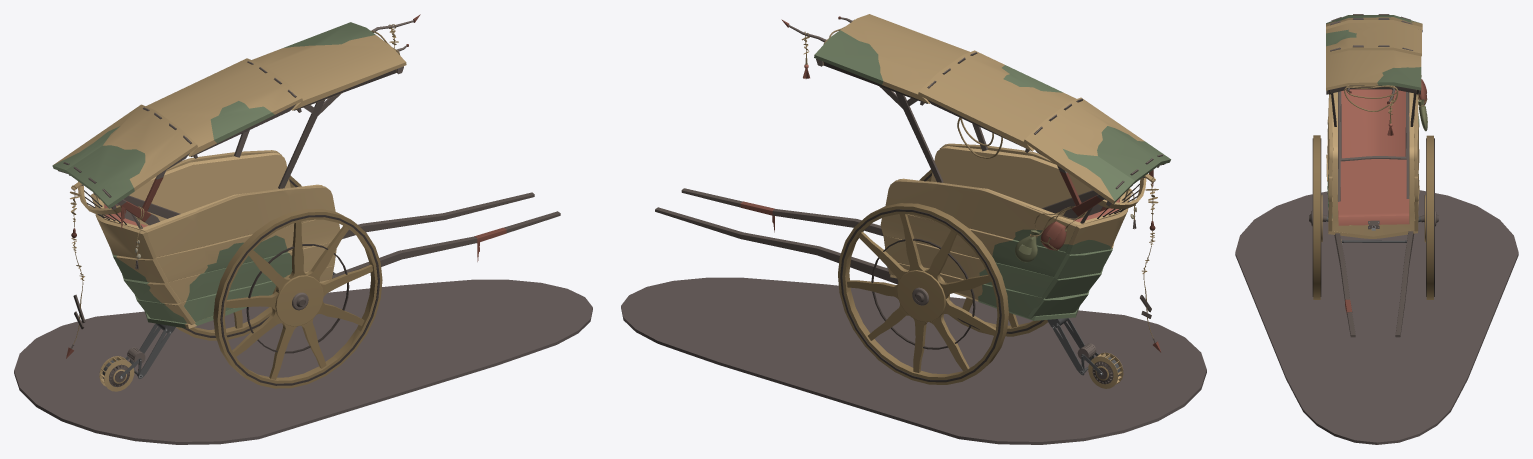
Rendered from Карета 2.fbx.
3 views of the same model, side by side, from view 1: azimuth 30°, elevation 25°; view 2: azimuth 150°, elevation 25°; view 3: azimuth 270°, elevation 25° (orthographic). The views are drawn at different scales.
Visible parts, largest first — view 1: pCube2; view 2: pCube2; view 3: pCube2.
Boxes of the visible parts, bbox=[...] form: pCube2: bbox=[14, 14, 592, 444]; pCube2: bbox=[621, 14, 1206, 444]; pCube2: bbox=[1235, 14, 1518, 444].
Bounding box in the file's own units: 6.66 × 3.7 × 3.43.
